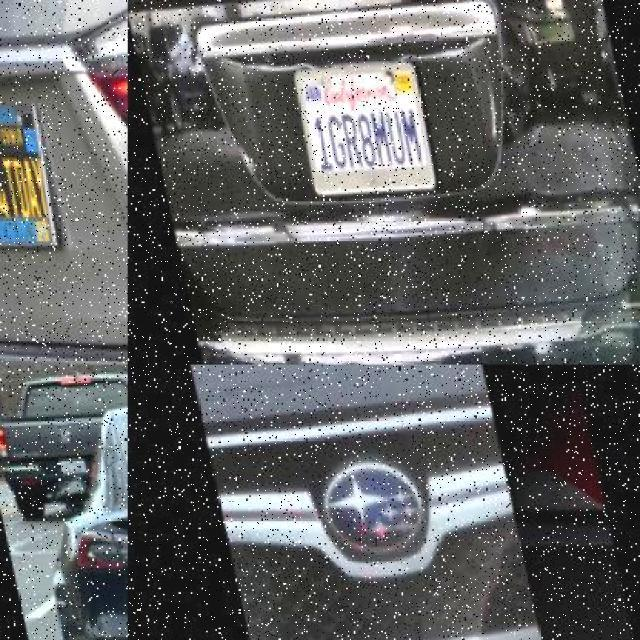LicensePlate: (281, 51, 434, 202), (0, 100, 52, 249)
